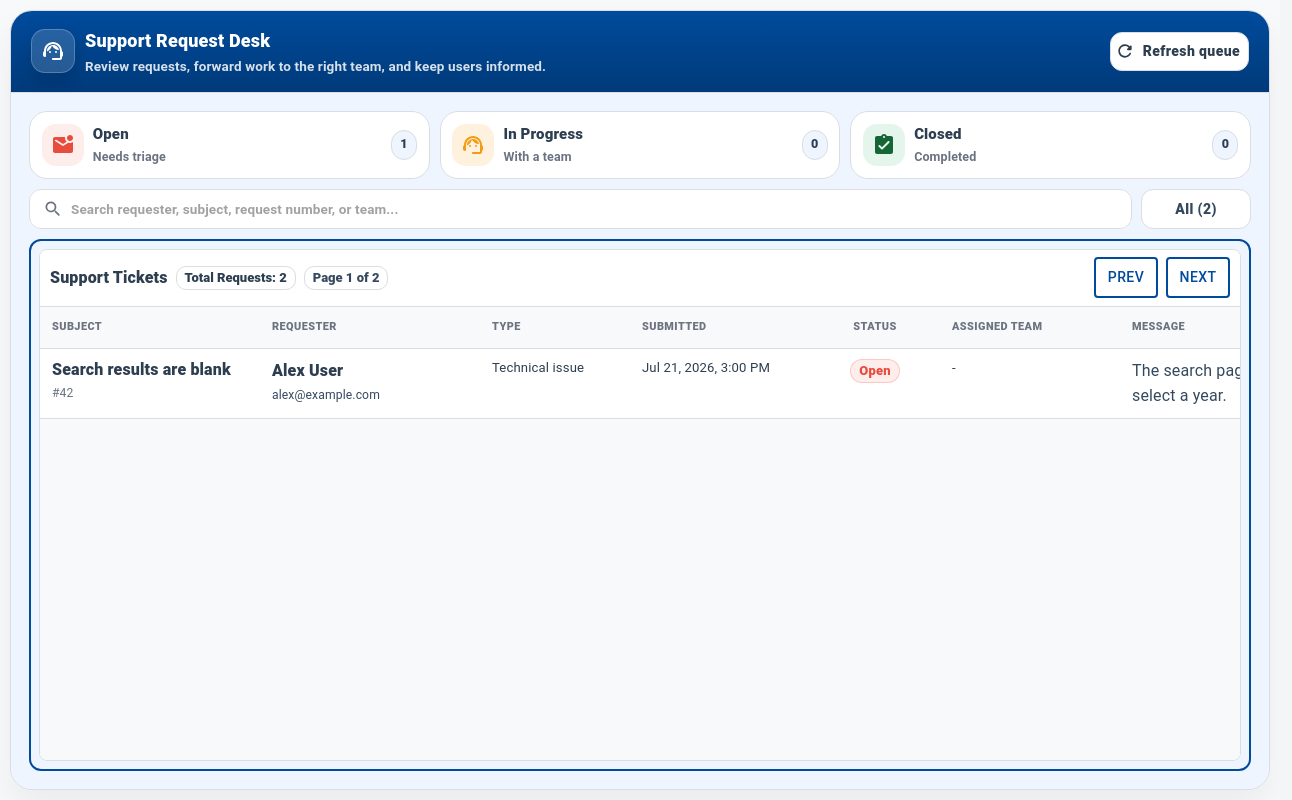
Test: Support request views › loads the next admin page when more support requests are available
Expected: the text "Search results are blank" is shown, top-left (52, 359), bottom-right (248, 380)
Click the button "NEXT".
click(1198, 278)  # box top-left (1166, 258), bottom-right (1230, 298)
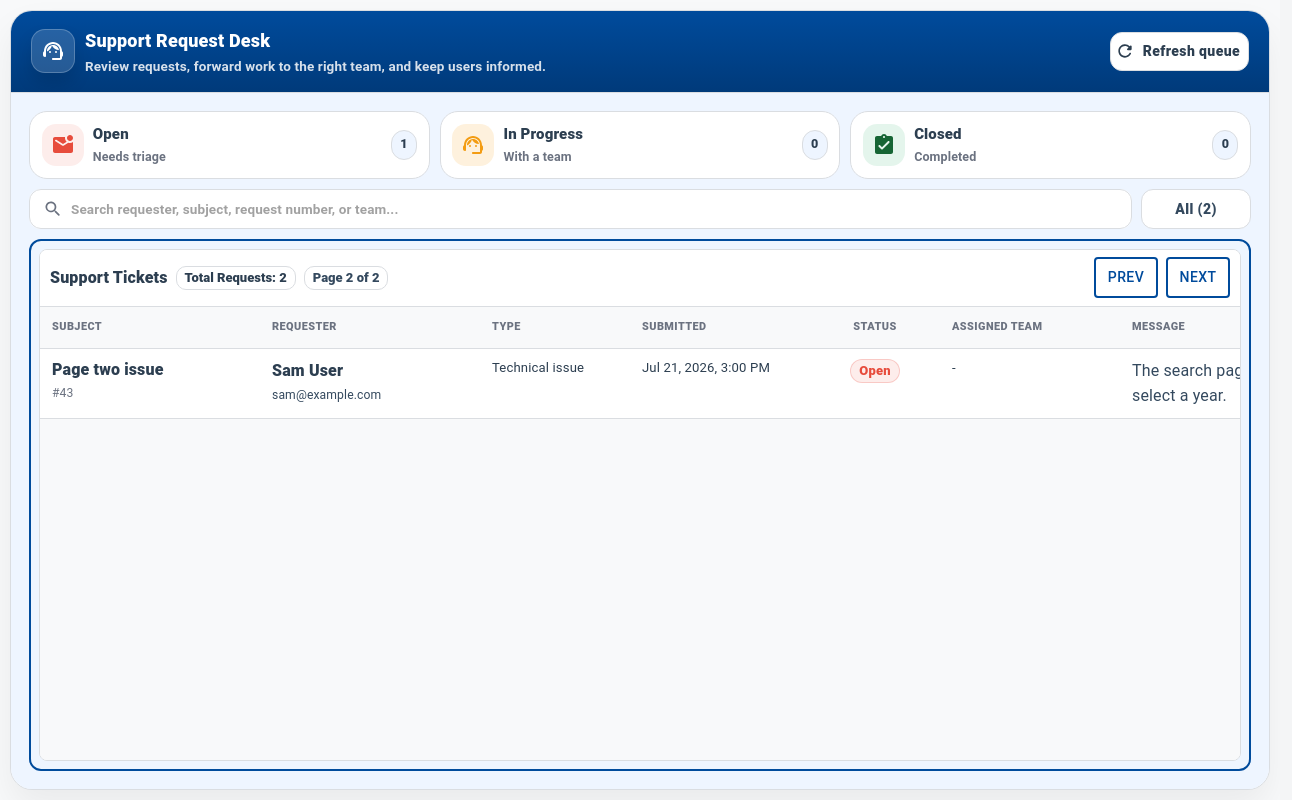
Expected: the text "Page two issue" is shown, top-left (52, 360), bottom-right (164, 379)
Expected: the text "Sam User" is shown, top-left (272, 361), bottom-right (343, 380)
